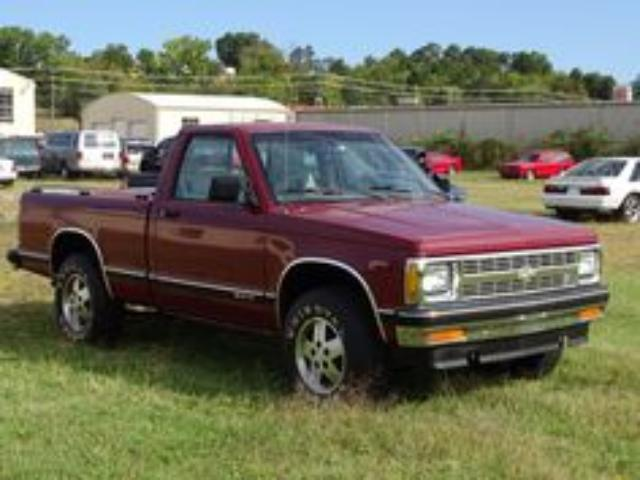pickup-truck: (7, 122, 609, 399)
